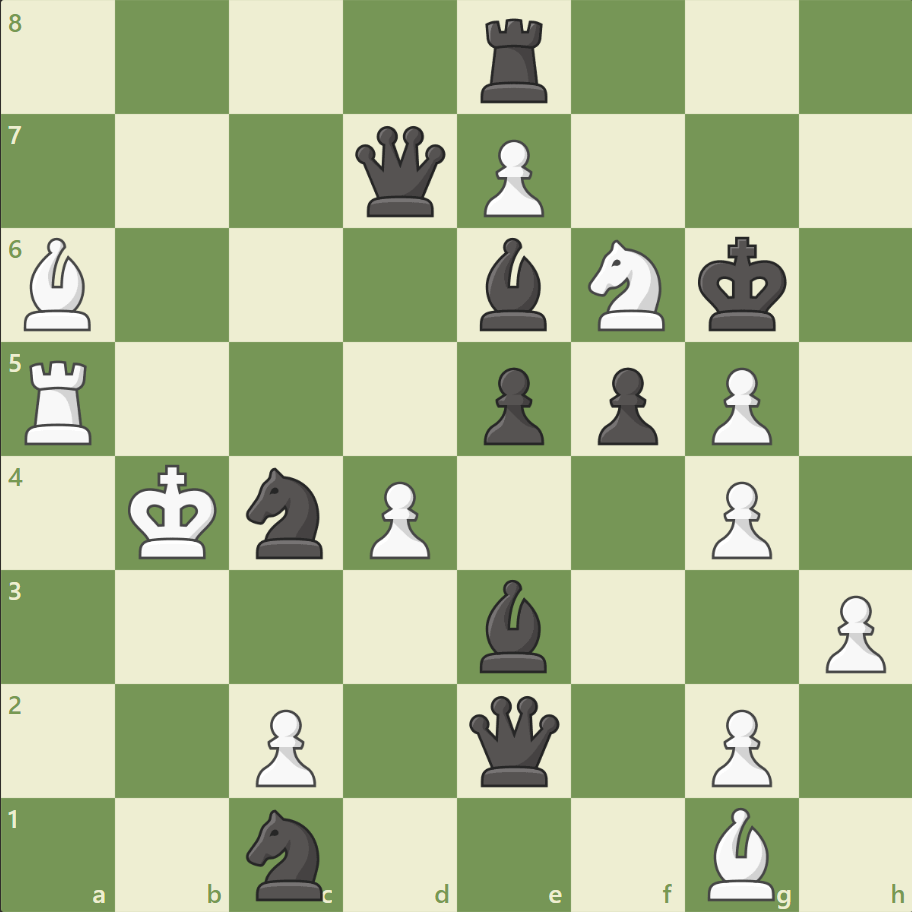B: (17, 233, 101, 336), (698, 801, 782, 904)
K: (124, 458, 224, 566)
N: (579, 234, 676, 337)
P: (474, 132, 549, 223), (701, 359, 776, 450), (701, 473, 776, 564), (247, 700, 322, 791), (701, 700, 776, 791), (361, 473, 435, 564), (815, 586, 889, 677)
R: (19, 352, 102, 449)
b: (471, 233, 555, 336), (471, 574, 555, 676)
k: (692, 231, 792, 339)
n: (238, 461, 335, 564), (238, 802, 335, 904)
p: (474, 359, 549, 450), (588, 359, 662, 450)
q: (351, 122, 450, 222), (464, 690, 563, 789)
r: (473, 12, 556, 109)
